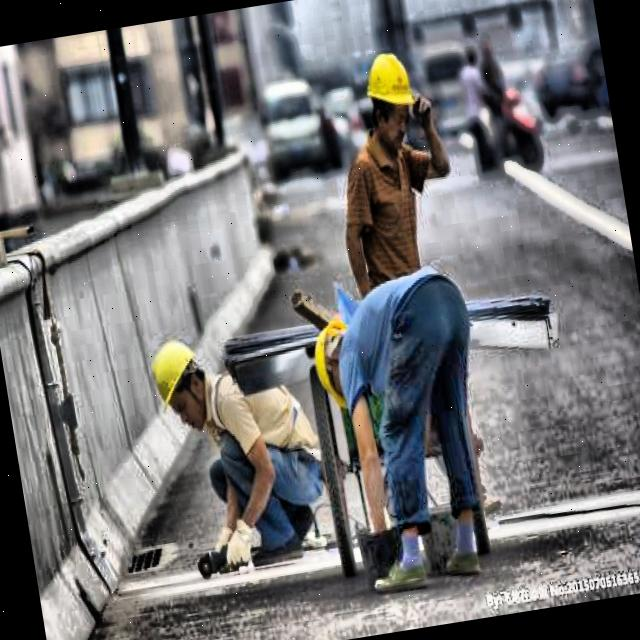helmet: (144, 338, 214, 438), (360, 44, 422, 152), (302, 316, 366, 411)
